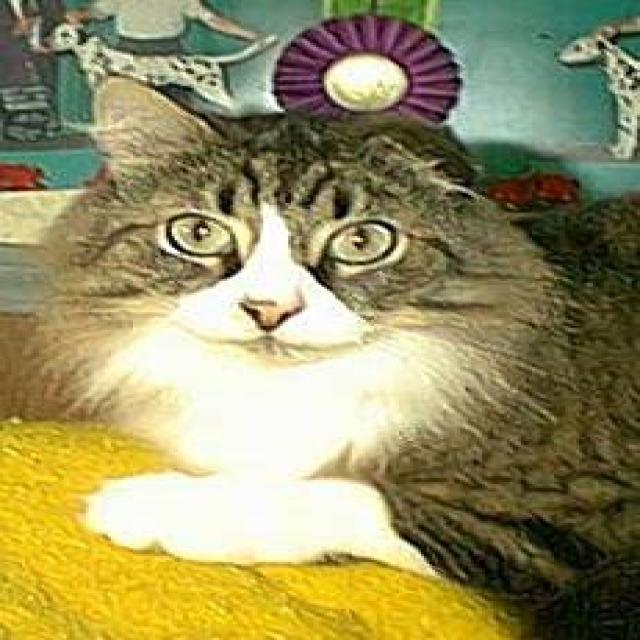cat: (20, 72, 638, 636)
